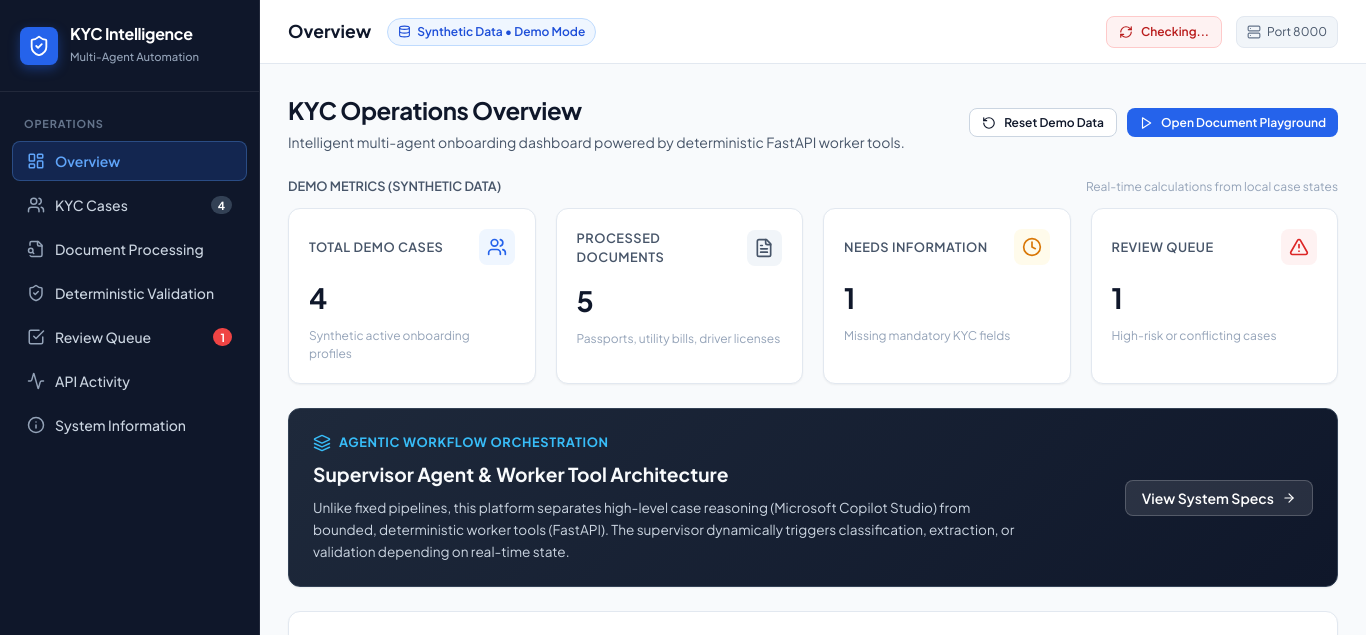
KYC Onboarding Frontend Application › navigates between pages smoothly
Note: Navigate to KYC Cases
Click the button "KYC Cases 4" at (130, 204), box [12,184,247,224]
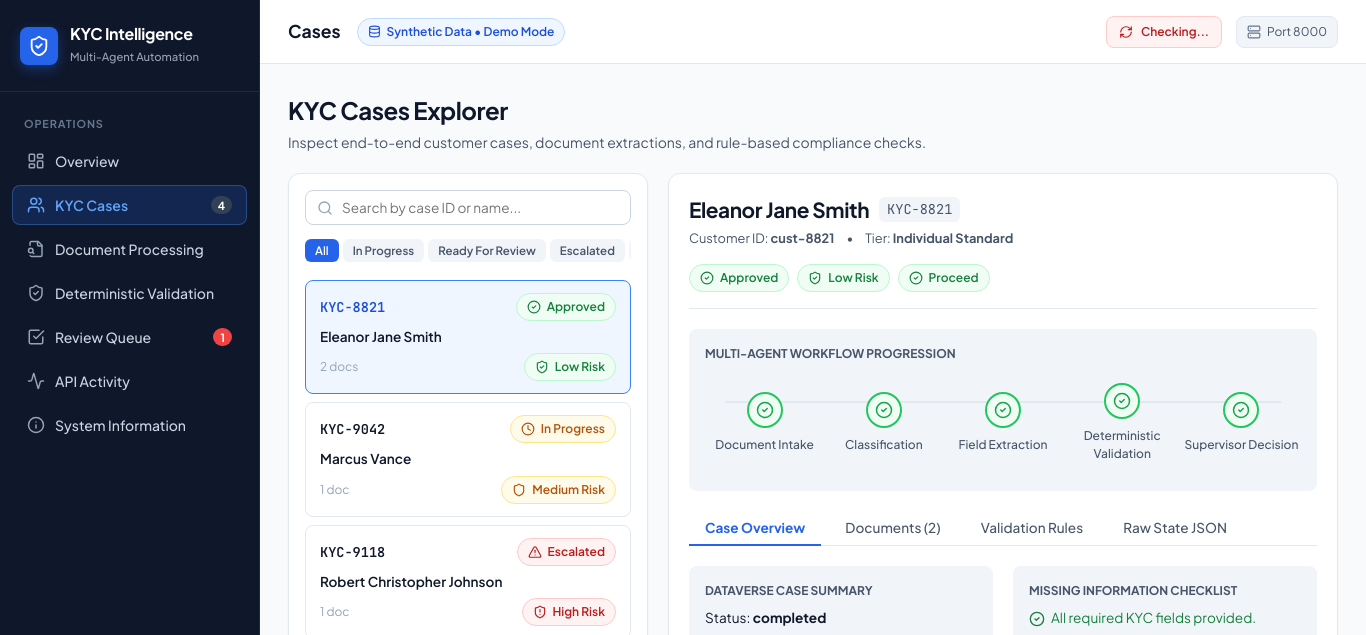
Expected: the heading "KYC Cases Explorer" is shown, [288,95,508,125]
Note: Navigate to Document Processing
Click the button "Document Processing" at (130, 248), box [12,228,247,268]
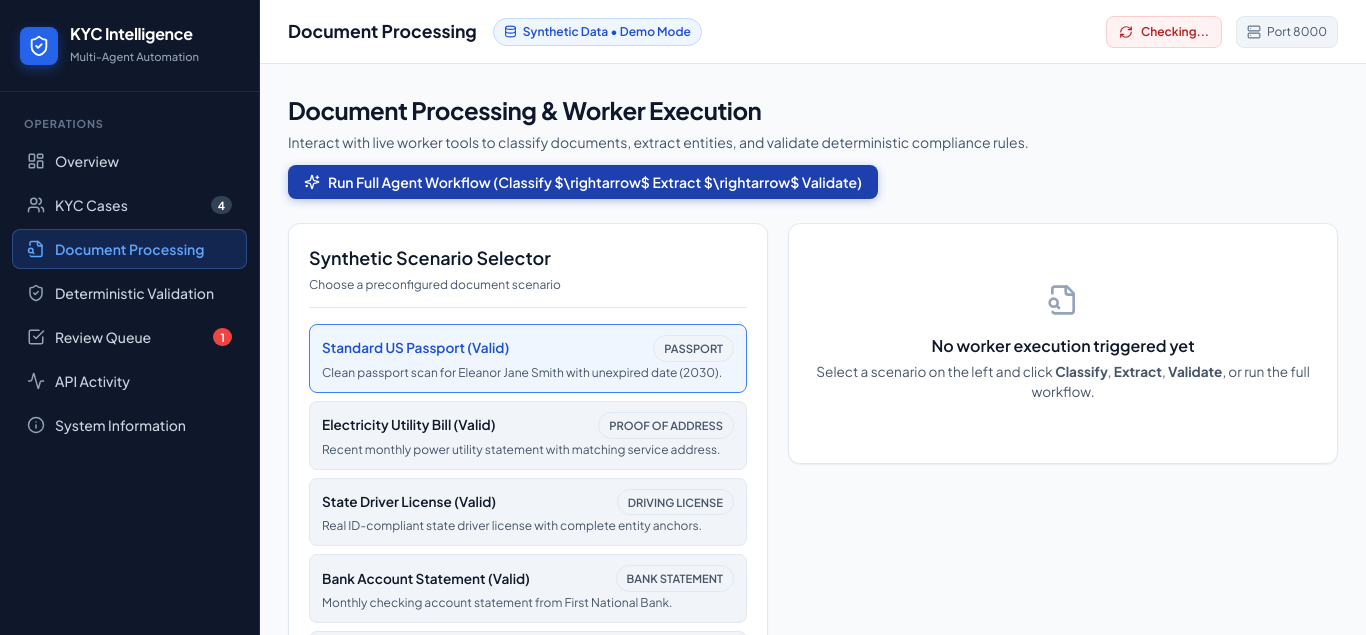
Expected: the heading "Document Processing & Worker Execution" is shown, [288,95,761,125]
Note: Navigate to Deterministic Validation
Click the button "Deterministic Validation" at (130, 292), box [12,272,247,312]
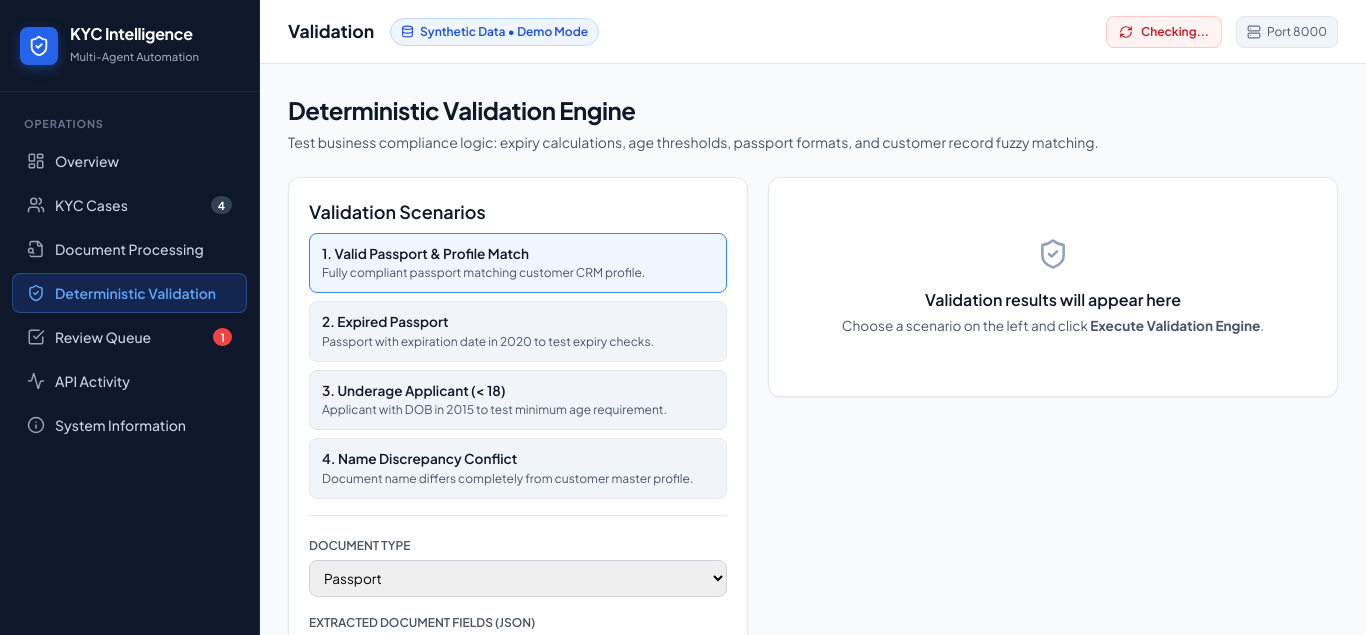
Expected: the heading "Deterministic Validation Engine" is shown, [288,95,636,125]
Note: Navigate to Review Queue
Click the button "Review Queue 1" at (130, 336), box [12,316,247,356]
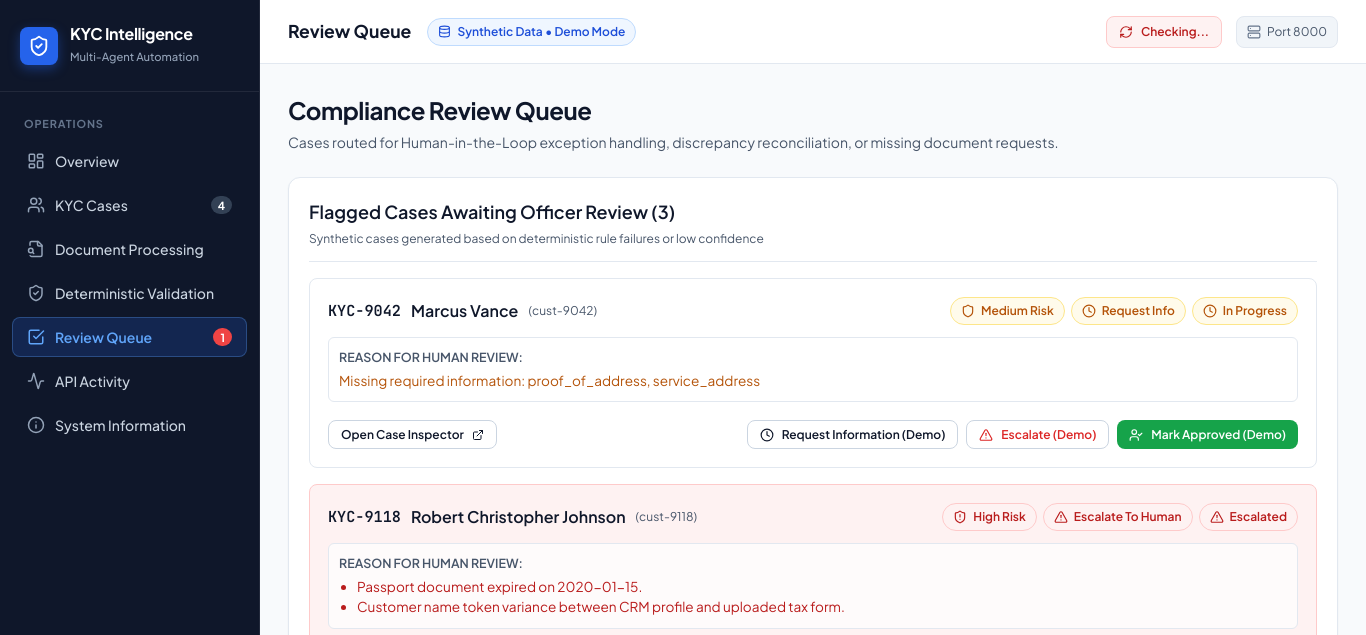
Expected: the heading "Compliance Review Queue" is shown, [288,95,591,125]
Note: Navigate to System Info
Click the button "System Information" at (130, 424), box [12,404,247,444]
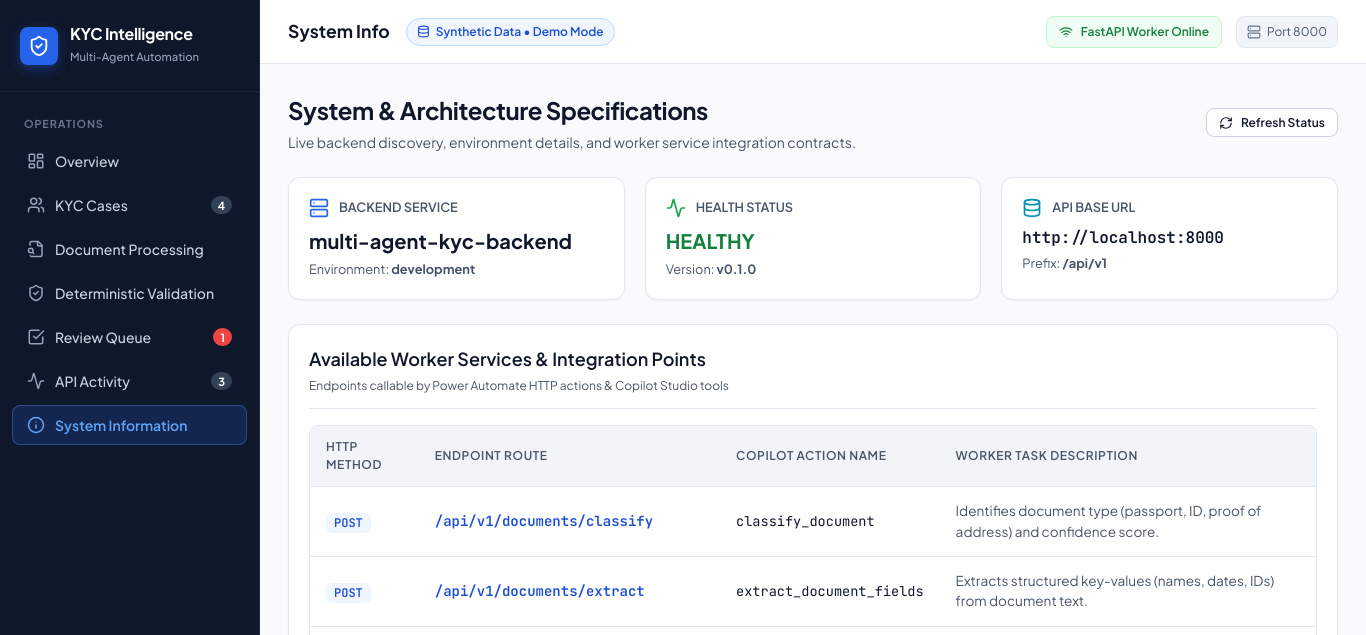
Expected: the heading "System & Architecture Specifications" is shown, [288,95,708,125]
